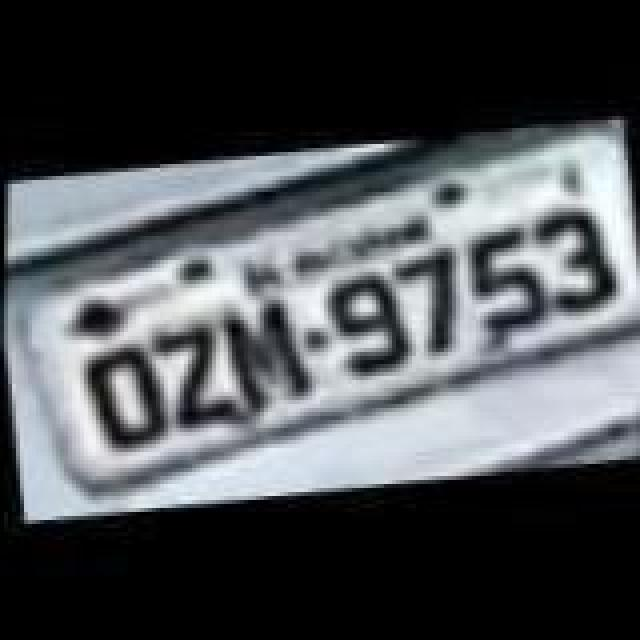3: (520, 194, 624, 318)
5: (462, 218, 554, 338)
7: (382, 242, 470, 358)
9: (318, 264, 414, 380)
M: (208, 290, 320, 418)
O: (72, 336, 168, 456)
Z: (146, 320, 238, 432)
